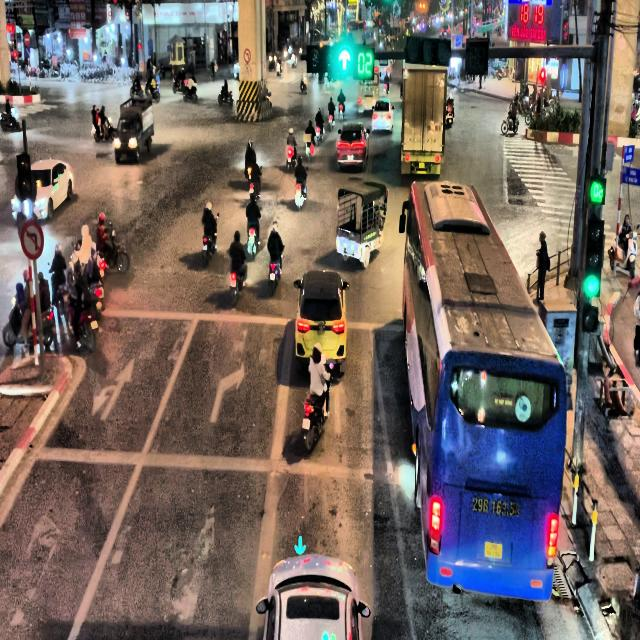lisence_plate: (469, 492, 522, 520), (484, 539, 504, 561)
